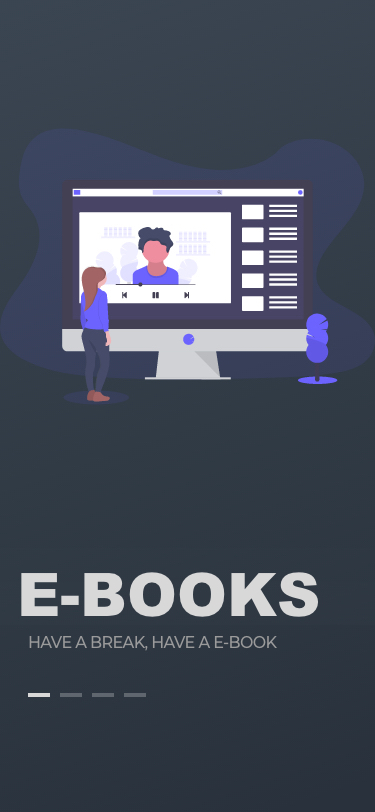Image: (1, 129, 375, 404)
PageIndicator: (28, 692, 147, 698)
Text: (21, 571, 319, 618), (29, 635, 278, 652)
